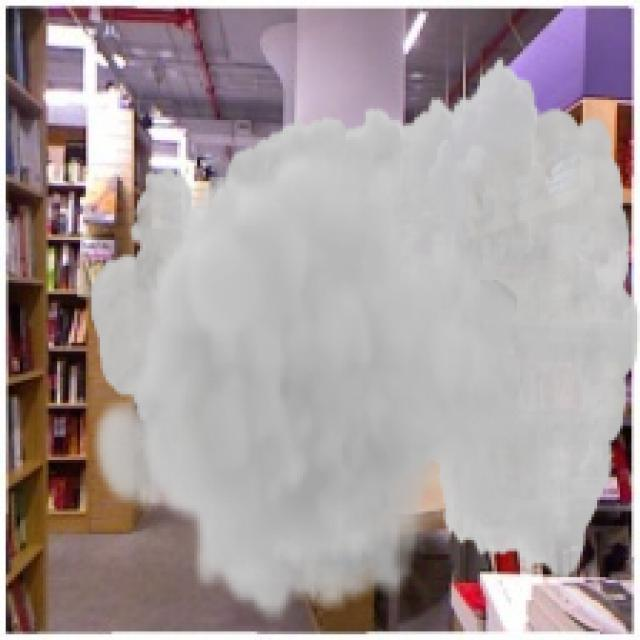Smoke: (88, 54, 638, 626)
